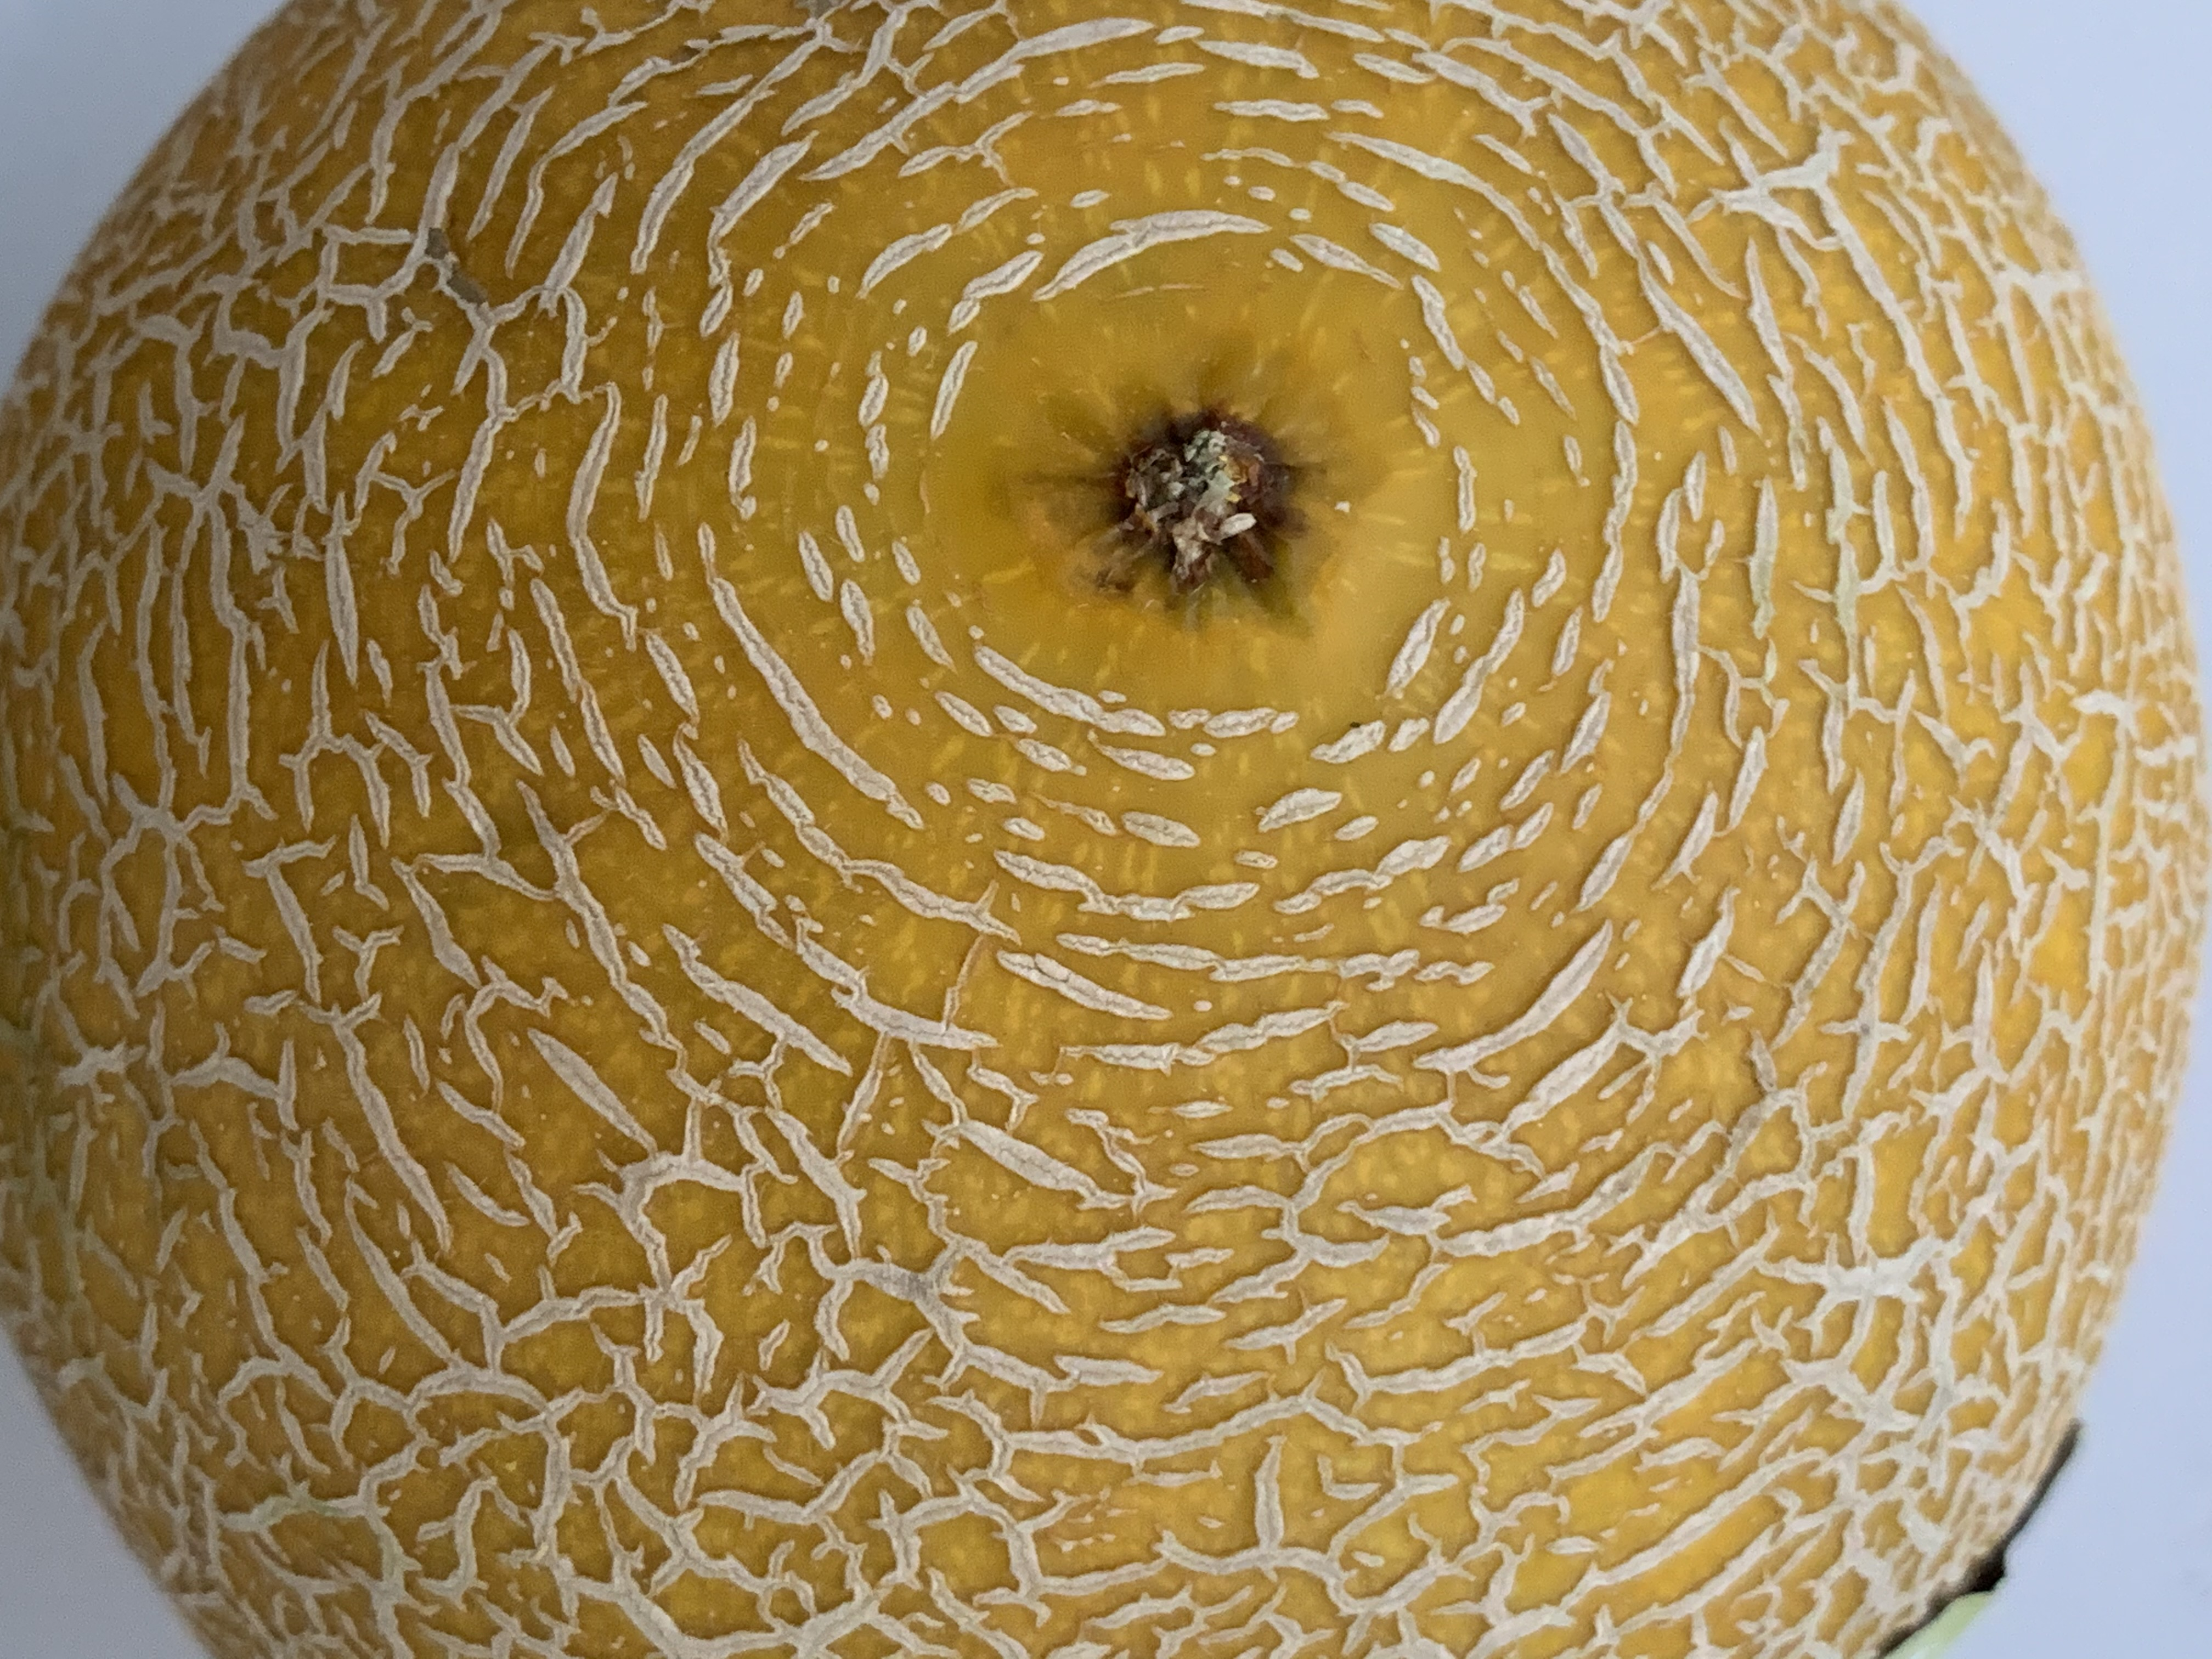galia melon: (23, 24, 2114, 1659)
